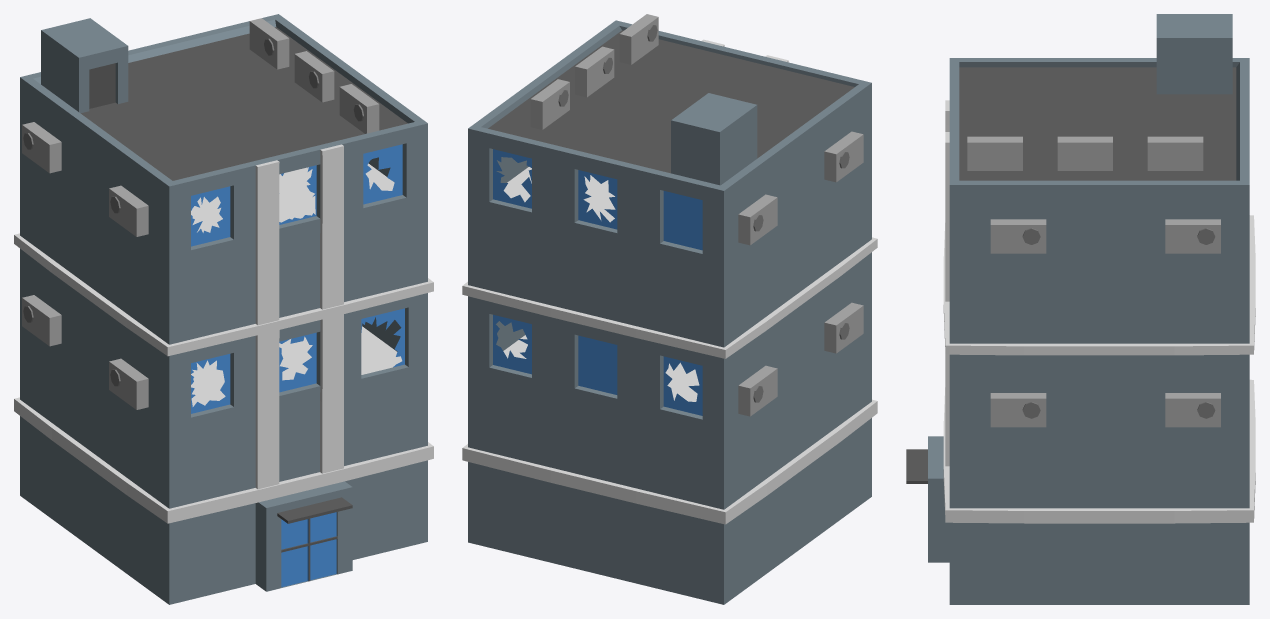
Rendered from Building1.fbx.
3 views of the same model, side by side, from view 1: azimuth 30°, elevation 25°; view 2: azimuth 150°, elevation 25°; view 3: azimuth 270°, elevation 25° (orthographic).
Visible parts, largest first — view 1: Building1; view 2: Building1; view 3: Building1.
Boxes of the visible parts, left/top/right/bottom form: Building1: left=14, top=14, right=433, bottom=604; Building1: left=462, top=14, right=877, bottom=604; Building1: left=906, top=14, right=1255, bottom=604.
Size of the model in its own units: 736 by 1151 by 775.
